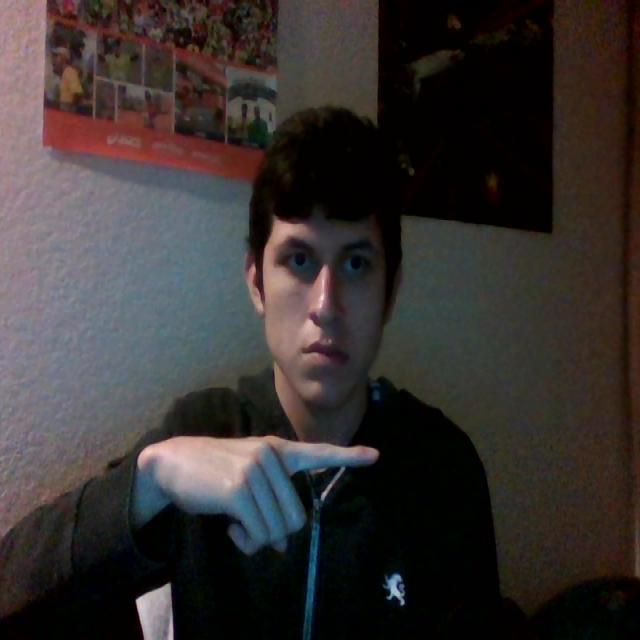P: (126, 388, 413, 569)
